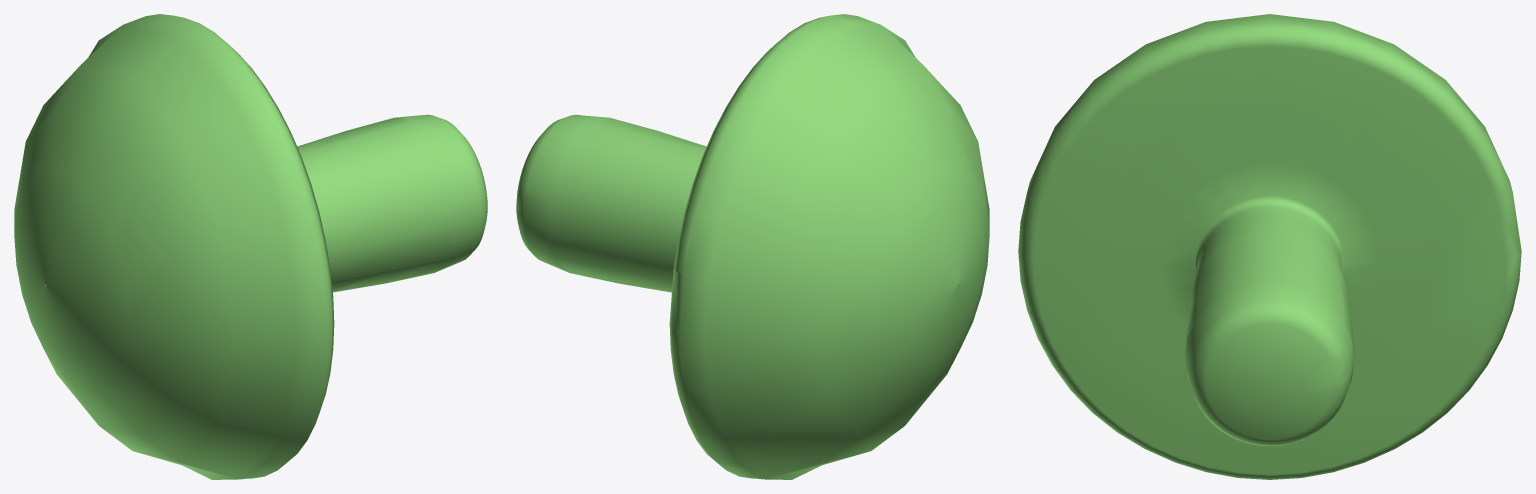
Rendered from mushroom_3.fbx.
3 renders of one model, left to right at view 1: azimuth 30°, elevation 25°; view 2: azimuth 150°, elevation 25°; view 3: azimuth 270°, elevation 25°, orthographic. The views are drawn at different scales.
Parts seen in each view (by area): view 1: revolvedSurface4; view 2: revolvedSurface4; view 3: revolvedSurface4.
Part boxes in pixels (x1,y1,x2,y2): revolvedSurface4: [14, 14, 487, 479]; revolvedSurface4: [516, 14, 989, 479]; revolvedSurface4: [1018, 14, 1521, 479].
Size of the model in its own units: 6.67 by 6.6 by 6.6.
